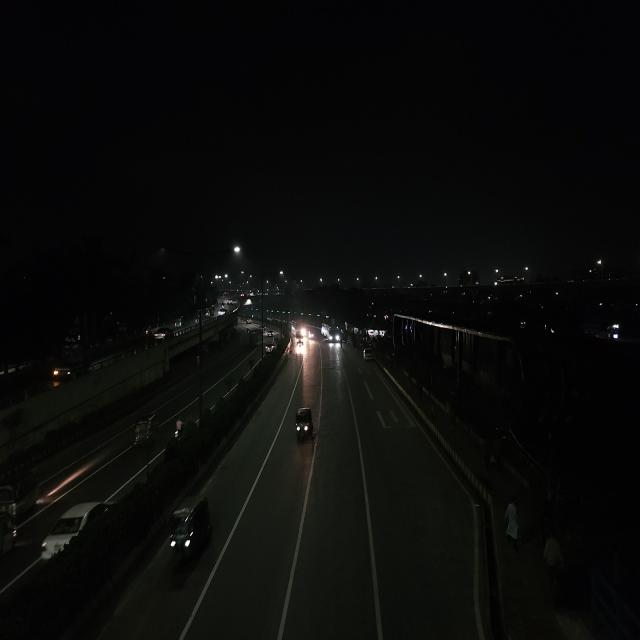bus: (326, 326, 341, 344), (292, 317, 304, 335)
car: (39, 494, 120, 564), (153, 327, 175, 342), (362, 346, 374, 364), (264, 339, 276, 355), (296, 335, 305, 347), (245, 317, 253, 327), (267, 328, 274, 338)
cng: (167, 488, 214, 574), (290, 406, 318, 446), (133, 412, 159, 448), (308, 330, 315, 341)
motorcycle: (171, 415, 189, 444), (246, 326, 250, 334)
